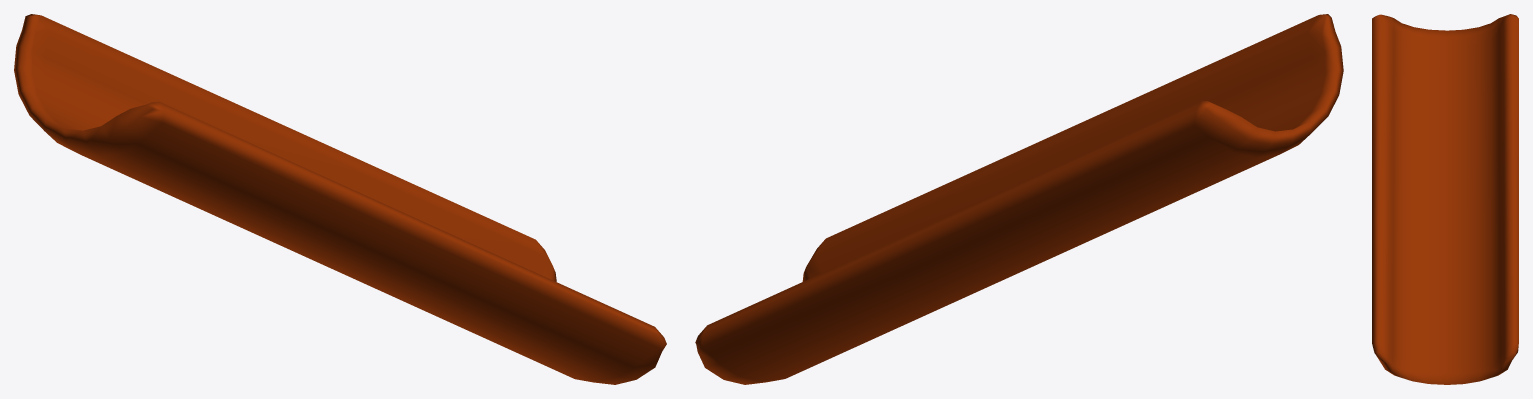
The model's file is SlidingWater.fbx.
The picture shows the model from 3 angles, left to right: view 1: azimuth 30°, elevation 25°; view 2: azimuth 150°, elevation 25°; view 3: azimuth 270°, elevation 25°; orthographic projection. The views are drawn at different scales.
Parts seen in each view (by area): view 1: Sliding1; view 2: Sliding1; view 3: Sliding1.
Part boxes in pixels (x1,y1,x2,y2): Sliding1: (14, 14, 666, 384); Sliding1: (695, 14, 1343, 384); Sliding1: (1372, 14, 1518, 384).
Size of the model in its own units: 9.51 by 6.98 by 3.88.
